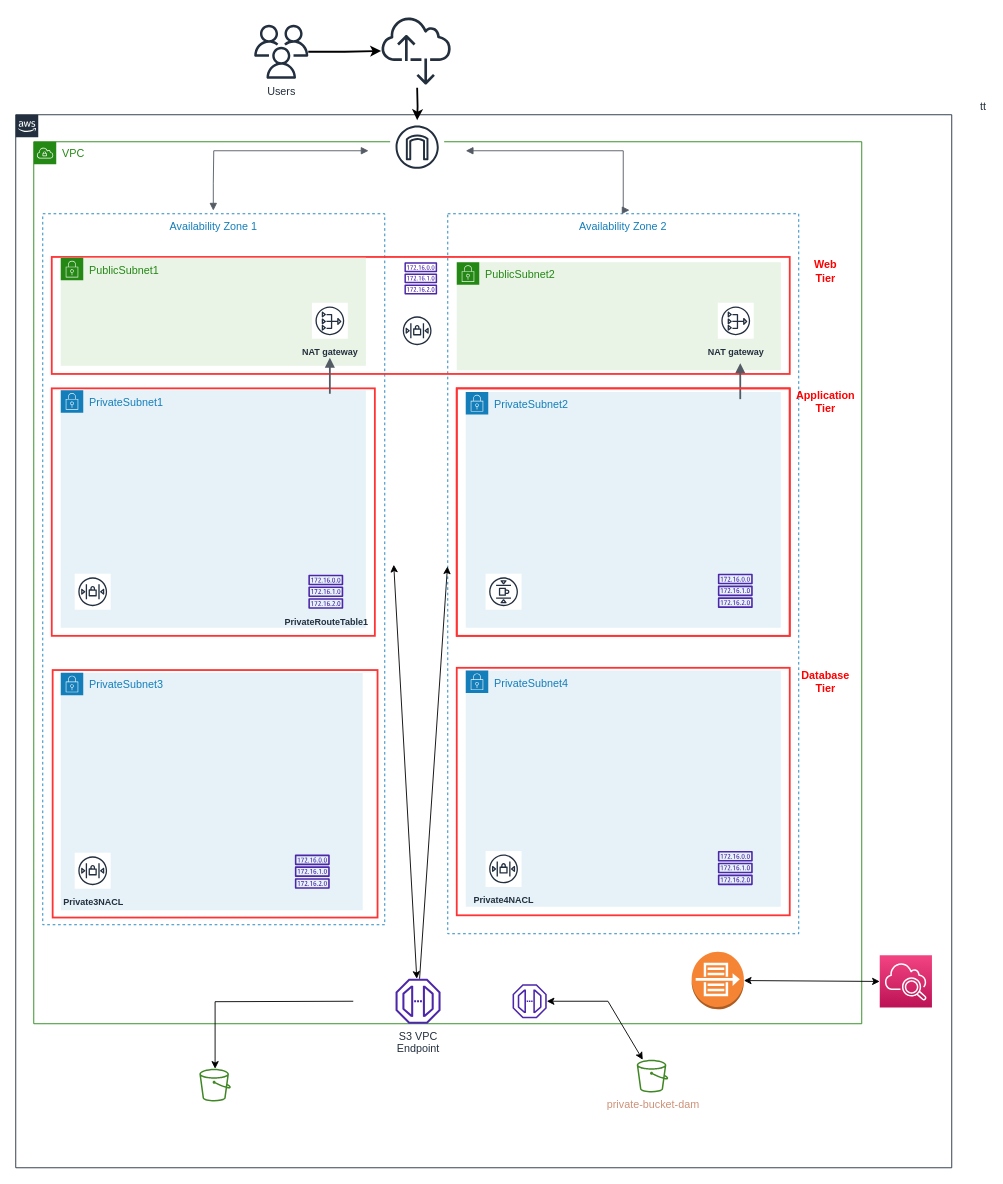
This 1003x1184 diagram has some shape labels left out. Here are the shapes that lost their labels. From the top down, the centre of each, then its label:
At point (416, 146): "Internet gateway".
At point (420, 278): "PublicRouteTable".
At point (416, 330): "PubNACL".
At point (92, 591): "Private1NACL".
At point (503, 591): "Private2NACL".
At point (734, 590): "PrivateRouteTable2".
At point (311, 871): "PrivateRouteTable3".
At point (734, 867): "PrivateRouteTable4".
At point (214, 1084): "public-bucket-dam".
